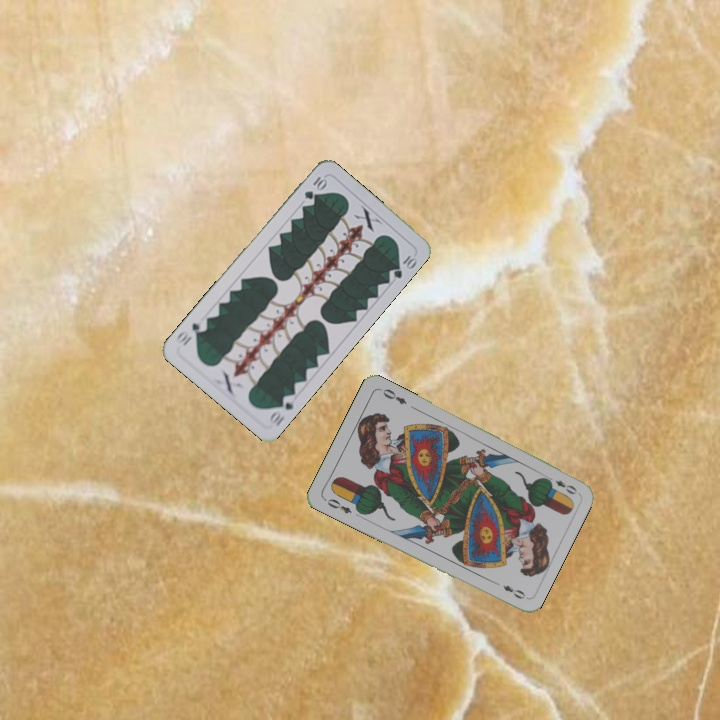EO: (542, 472, 580, 497), (323, 494, 354, 516)
G10: (266, 390, 296, 430), (300, 172, 329, 202)
